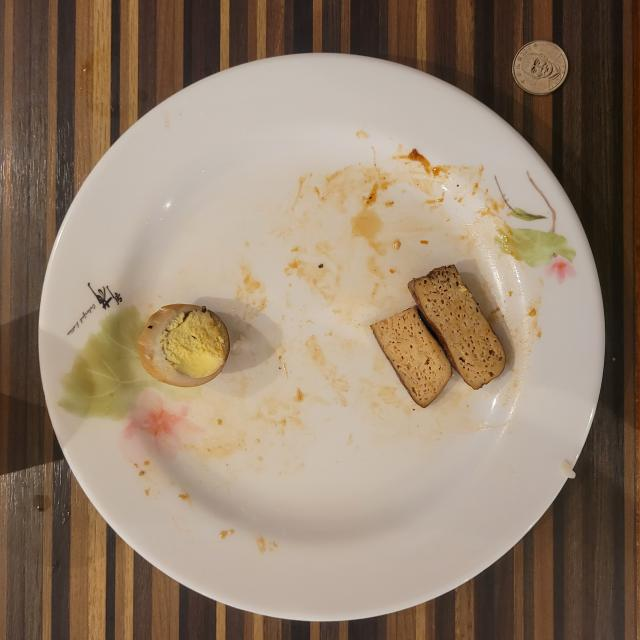coin: (512, 41, 568, 95)
firm tofu: (371, 265, 506, 408)
soy egg: (138, 304, 230, 388)
